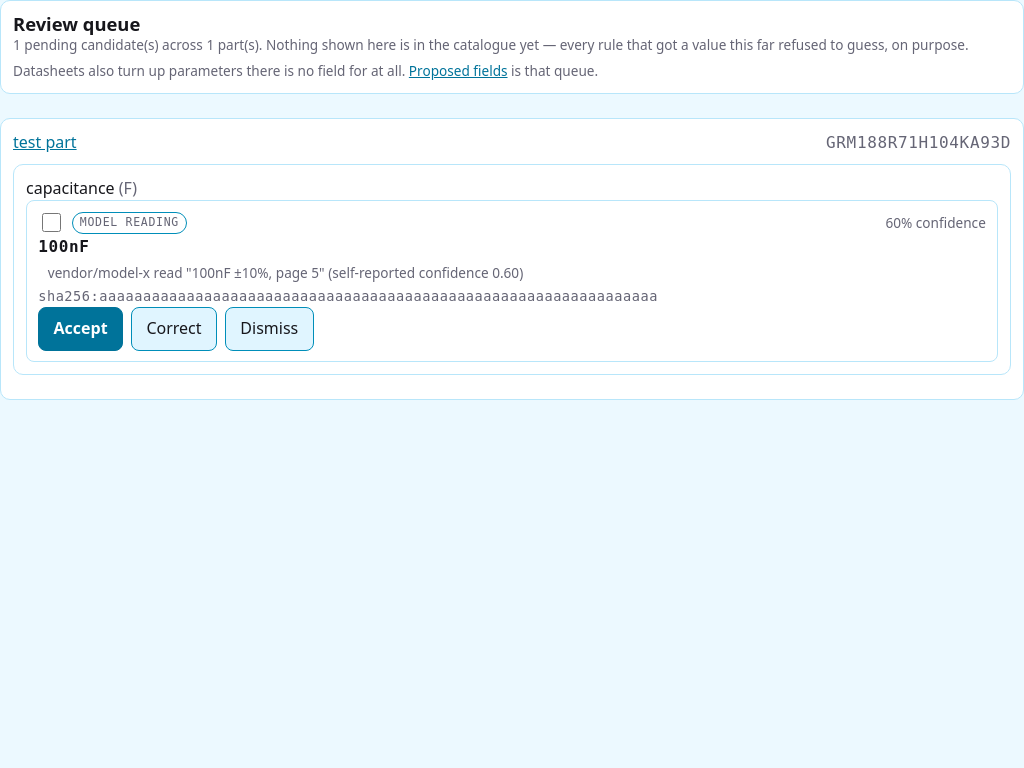
correcting a value › does not silently drop a submit attempt while the value is empty
The image size is (1024, 768).
Click the button "Correct". click: (174, 329)
box: [131, 307, 217, 351]
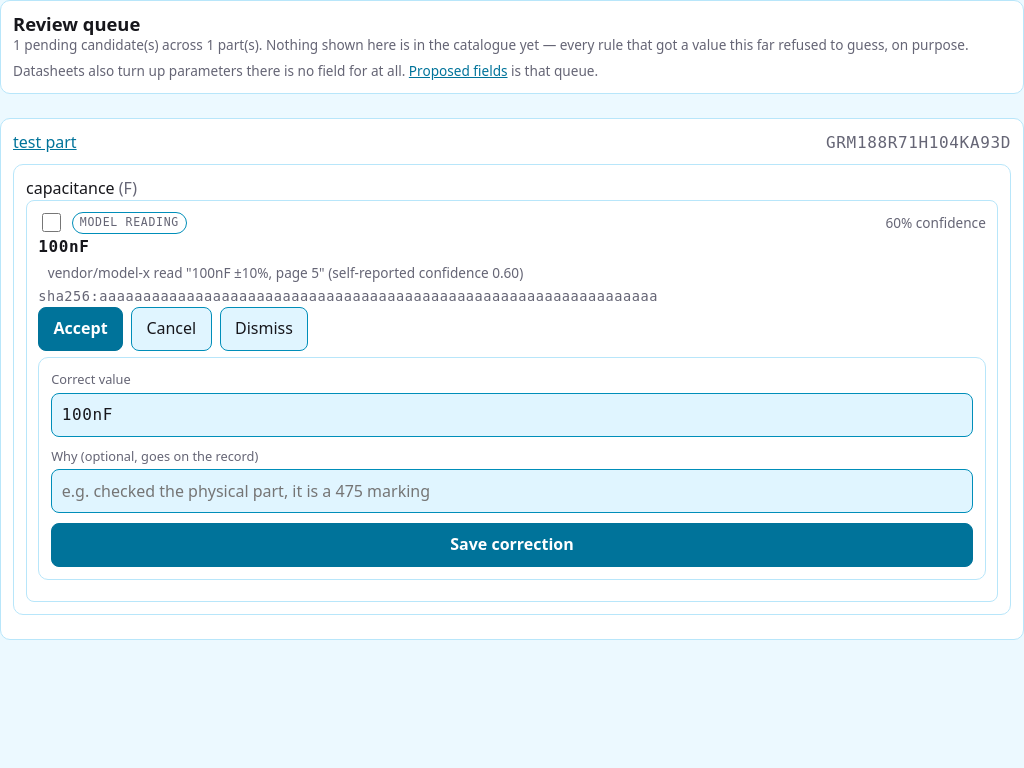
Clear the field showing "100nF". click: (512, 415)
box: [51, 393, 973, 437]
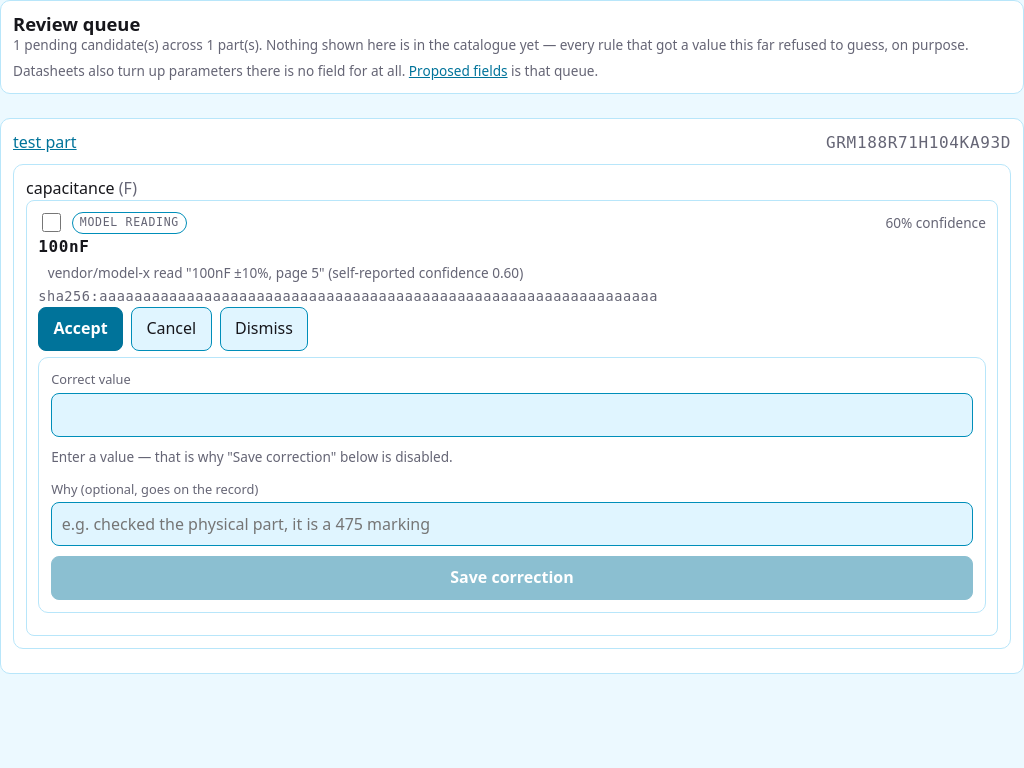
Submit the form "Save correction", box [38, 357, 986, 613]
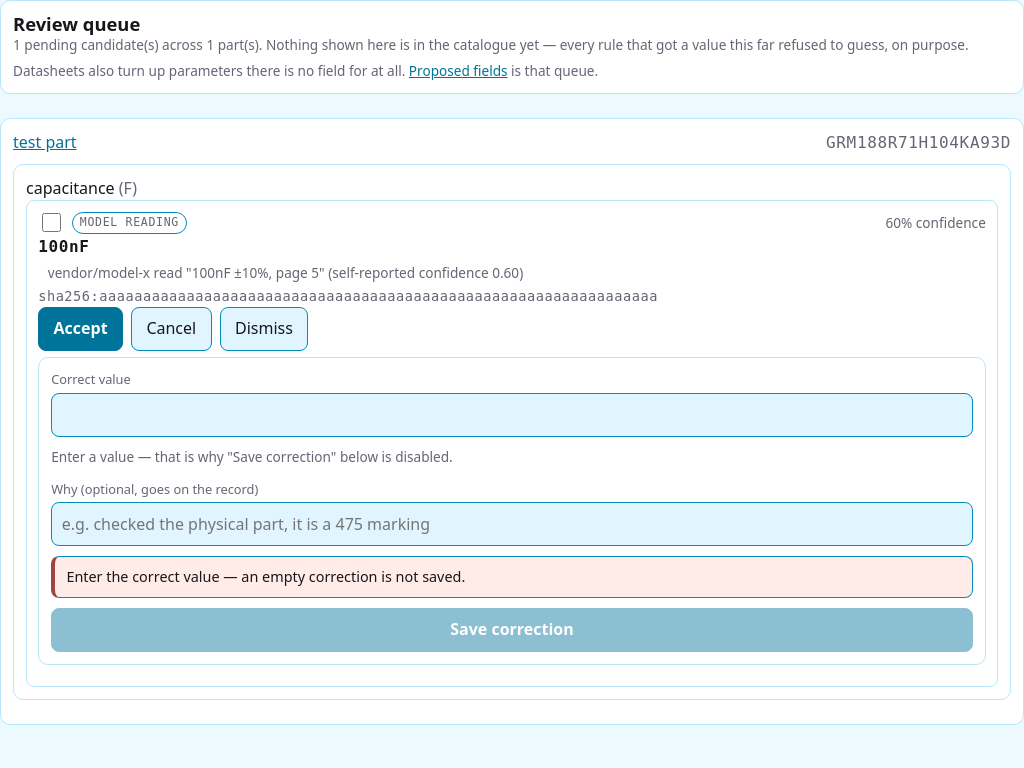
Expected: the text "Enter the correct value — an empty correction is not saved." is shown, [66, 567, 465, 586]
